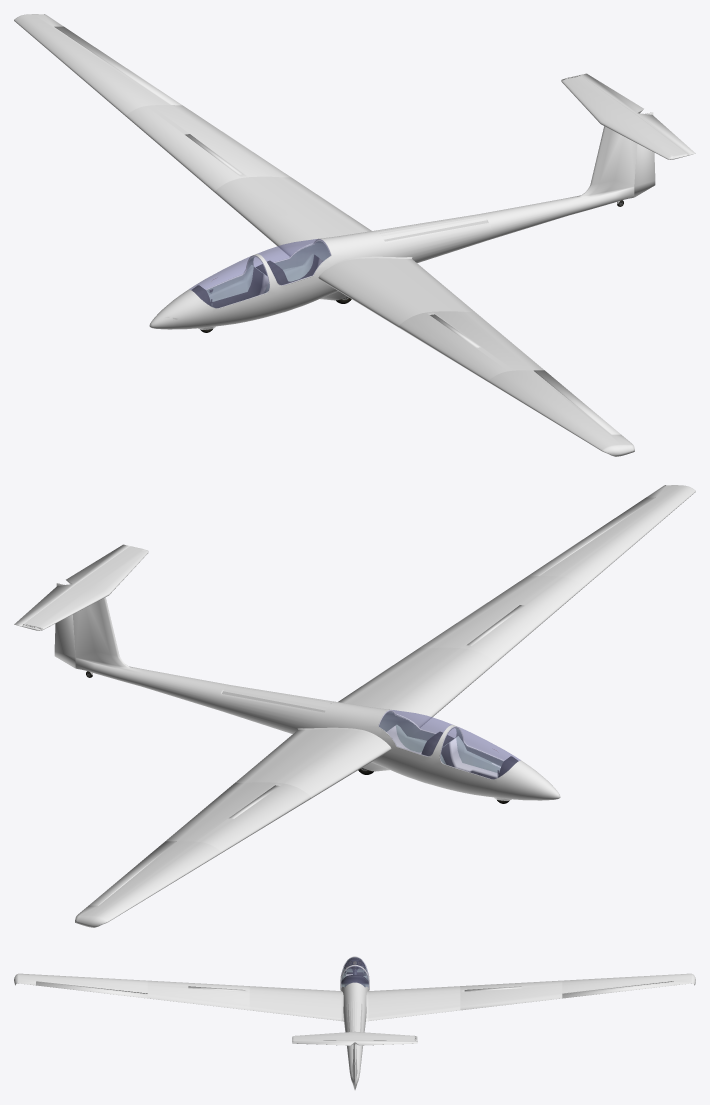
Rendered from ASK21.gltf.
3 renders of one model, top to bottom at view 1: azimuth 30°, elevation 25°; view 2: azimuth 150°, elevation 25°; view 3: azimuth 270°, elevation 25°, orthographic. The views are drawn at different scales.
Visible parts, largest first — view 1: fuselage_fuselage.mesh, ailesR0_ailesR0.mesh, ailesL0_ailesL0.mesh, ailesR1_ailesR1.mesh, ailesL1_ailesL1.mesh, ailesR2_ailesR2.mesh, ailesL2_ailesL2.mesh, derive_derive.mesh, vitreA_vitreA.mesh, vitreB_vitreB.mesh, fond.003_fond.mesh.003, profondeur_profondeur.mesh (+4 smaller); view 2: fuselage_fuselage.mesh, ailesL0_ailesL0.mesh, ailesR0_ailesR0.mesh, ailesL1_ailesL1.mesh, ailesR1_ailesR1.mesh, ailesL2_ailesL2.mesh, ailesR2_ailesR2.mesh, derive_derive.mesh, vitreA_vitreA.mesh, vitreB_vitreB.mesh, fond.003_fond.mesh.003, profondeur_profondeur.mesh (+4 smaller); view 3: ailesL0_ailesL0.mesh, ailesR0_ailesR0.mesh, ailesL1_ailesL1.mesh, ailesR1_ailesR1.mesh, fuselage_fuselage.mesh, ailesL2_ailesL2.mesh, ailesR2_ailesR2.mesh, derive_derive.mesh, aileronD_aileronD.mesh, aileronG_aileronG.mesh, profondeur_profondeur.mesh, vitreB_vitreB.mesh.
Part boxes in pixels (x1,y1,x2,y2): fuselage_fuselage.mesh: (149,126,637,329); ailesR0_ailesR0.mesh: (215,176,371,256); ailesL0_ailesL0.mesh: (318,258,474,327); ailesR1_ailesR1.mesh: (126,105,290,192); ailesL1_ailesL1.mesh: (399,311,544,382); ailesR2_ailesR2.mesh: (14,14,169,116); ailesL2_ailesL2.mesh: (488,370,634,456); derive_derive.mesh: (561,75,687,159); vitreA_vitreA.mesh: (189,255,269,307); vitreB_vitreB.mesh: (253,239,330,285); fond.003_fond.mesh.003: (209,254,323,308); profondeur_profondeur.mesh: (579,73,695,155); fuselage_fuselage.mesh: (72,597,560,800); ailesL0_ailesL0.mesh: (338,647,494,727); ailesR0_ailesR0.mesh: (235,729,391,798); ailesL1_ailesL1.mesh: (419,576,583,663); ailesR1_ailesR1.mesh: (165,782,310,853); ailesL2_ailesL2.mesh: (540,485,695,587); ailesR2_ailesR2.mesh: (75,841,221,927); derive_derive.mesh: (22,546,148,630); vitreA_vitreA.mesh: (440,726,520,778); vitreB_vitreB.mesh: (379,710,456,756); fond.003_fond.mesh.003: (386,725,500,779); profondeur_profondeur.mesh: (14,544,130,626); ailesL0_ailesL0.mesh: (249,986,341,1020); ailesR0_ailesR0.mesh: (368,986,460,1020); ailesL1_ailesL1.mesh: (147,980,249,1010); ailesR1_ailesR1.mesh: (460,980,562,1010); fuselage_fuselage.mesh: (340,956,369,1087); ailesL2_ailesL2.mesh: (14,973,147,993); ailesR2_ailesR2.mesh: (562,973,695,993); derive_derive.mesh: (292,1031,417,1040); aileronD_aileronD.mesh: (562,981,673,998); aileronG_aileronG.mesh: (36,981,147,998); profondeur_profondeur.mesh: (292,1040,417,1045); vitreB_vitreB.mesh: (341,965,368,987).
Size of the model in its own units: 8.34 by 1.89 by 17.01.
Materials: 14 (12 with a texture image).
